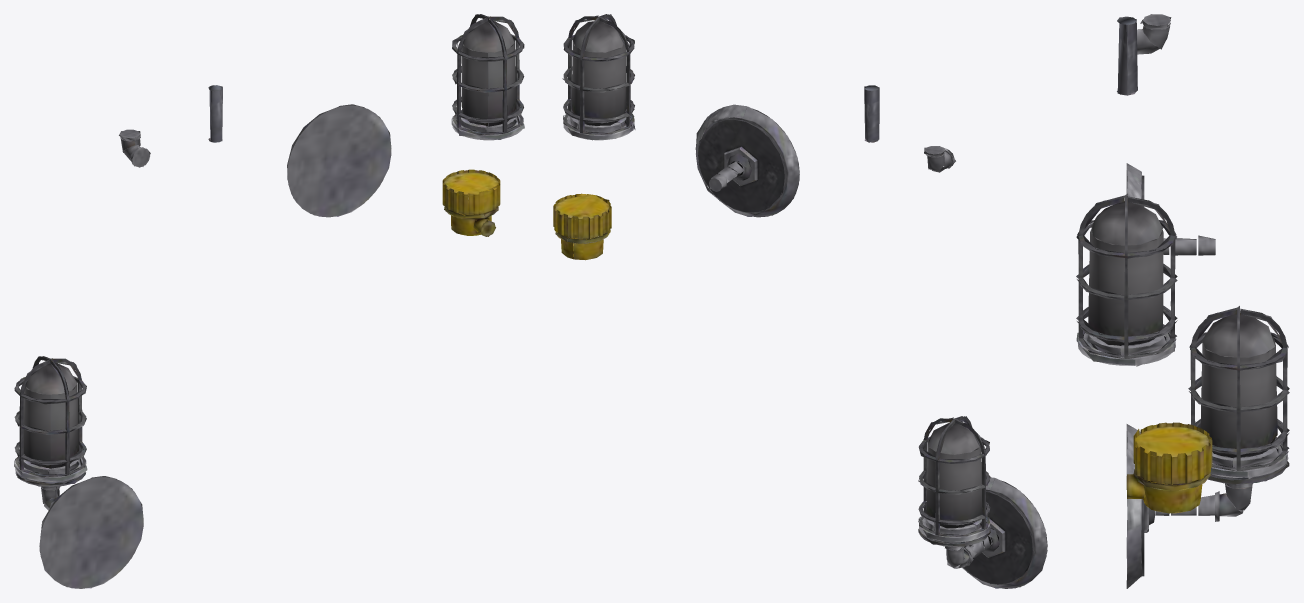
Rendered from wall_sconce.glb.
3 views of the same model, side by side, from view 1: azimuth 30°, elevation 25°; view 2: azimuth 150°, elevation 25°; view 3: azimuth 270°, elevation 25° (orthographic). The views are drawn at different scales.
Parts seen in each view (by area): view 1: industrial_caged_sconce_a; view 2: industrial_caged_sconce_a; view 3: industrial_caged_sconce_a.
Boxes of the visible parts, bbox=[...] form: industrial_caged_sconce_a: bbox=[14, 14, 524, 588]; industrial_caged_sconce_a: bbox=[553, 14, 1047, 588]; industrial_caged_sconce_a: bbox=[1076, 14, 1289, 588].
Size of the model in its own units: 0.9712 by 0.9174 by 0.2728.
1 material, 1 textured.
